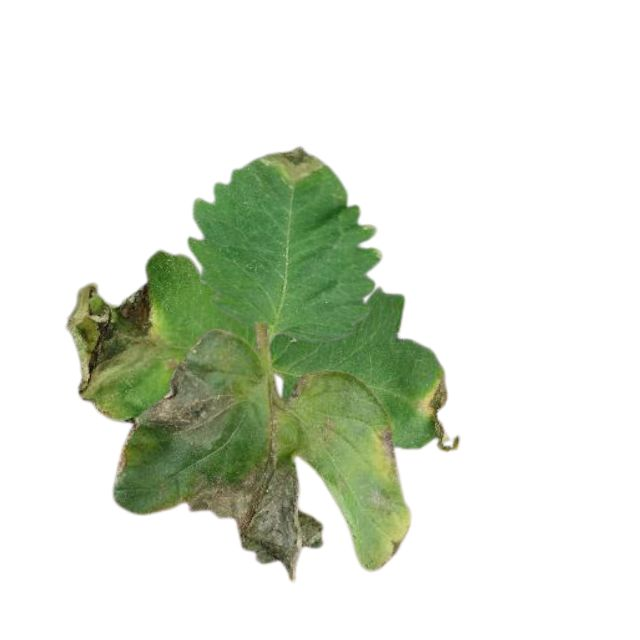Late_blight: (197, 450, 322, 582), (64, 280, 166, 418), (140, 331, 242, 448), (418, 377, 461, 452), (260, 146, 328, 178), (114, 422, 140, 478), (376, 424, 398, 466), (287, 374, 312, 409)
